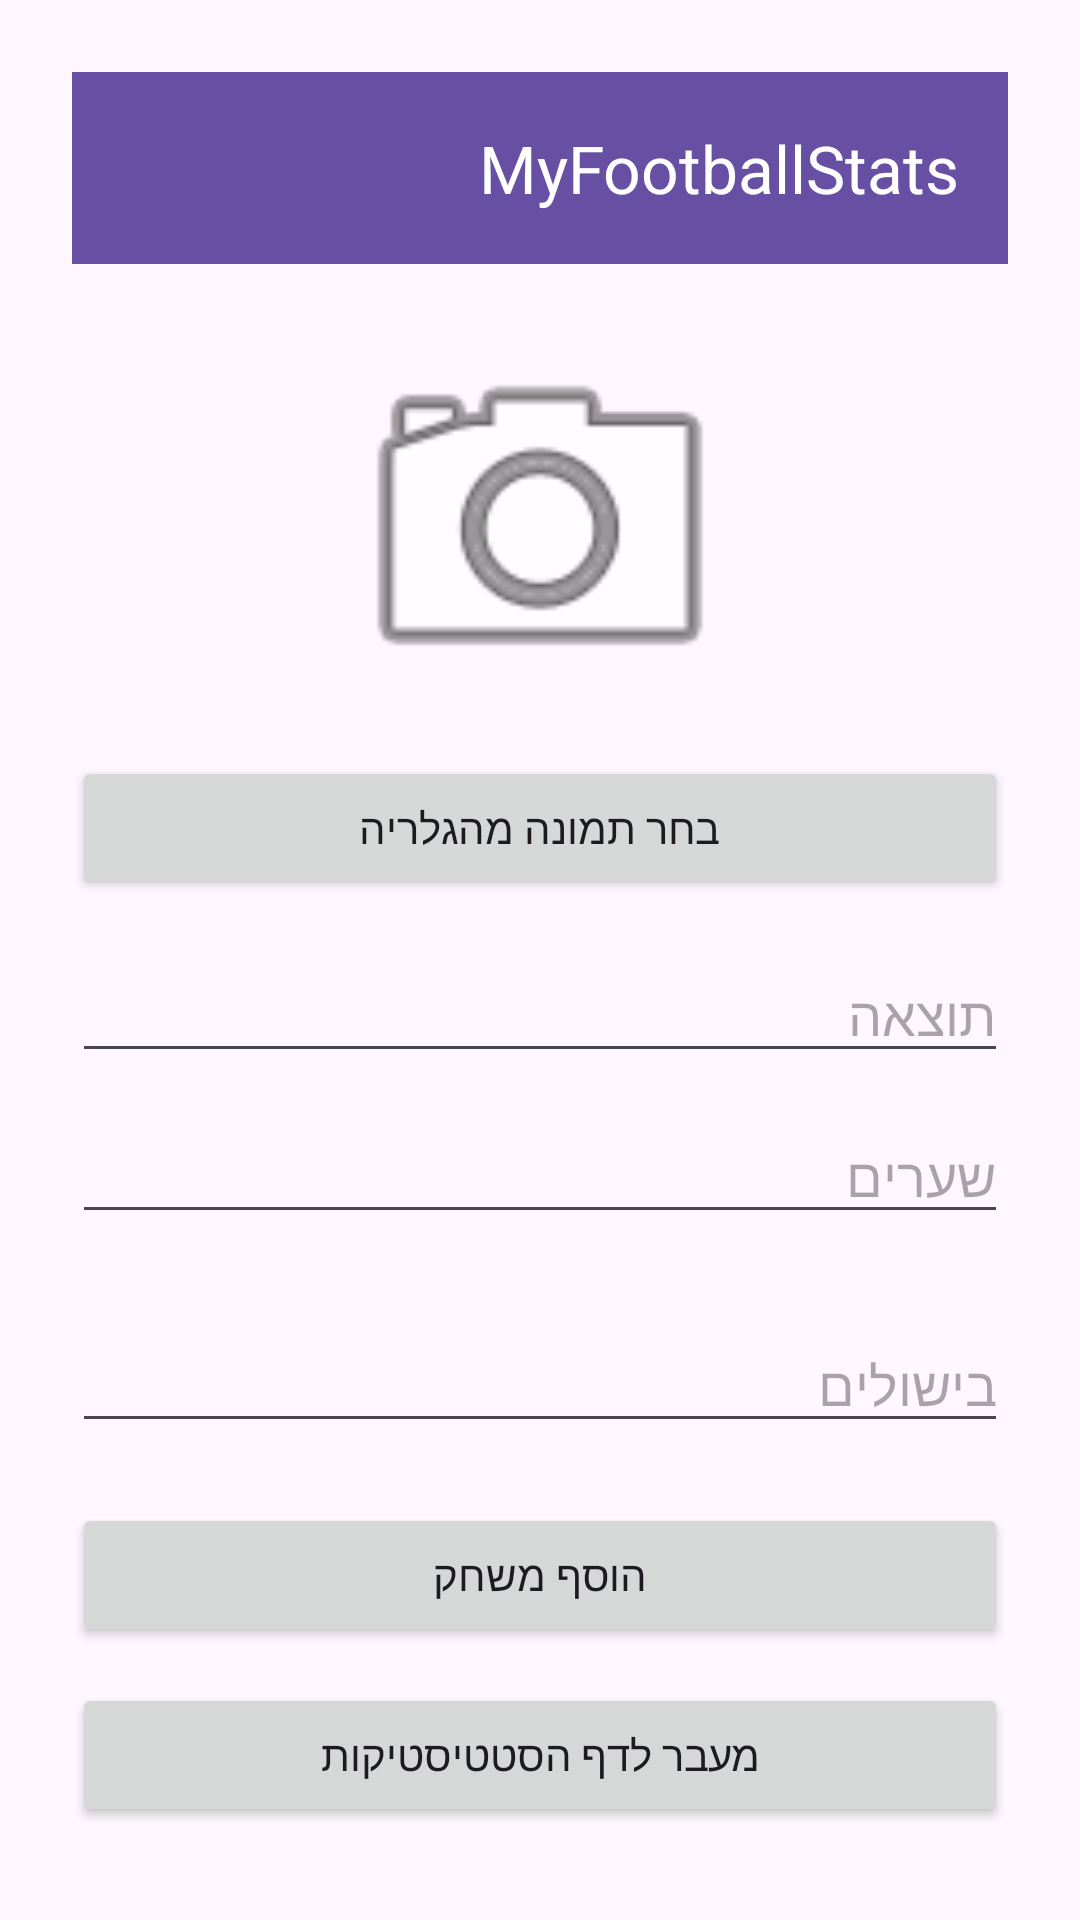

Locate icon controls on the screen. Image size 1080*1920, boxes as {"x1": x1, "y1": y1, "x2": x2, "y2": y2}.
camera: {"x1": 377, "y1": 386, "x2": 703, "y2": 645}
